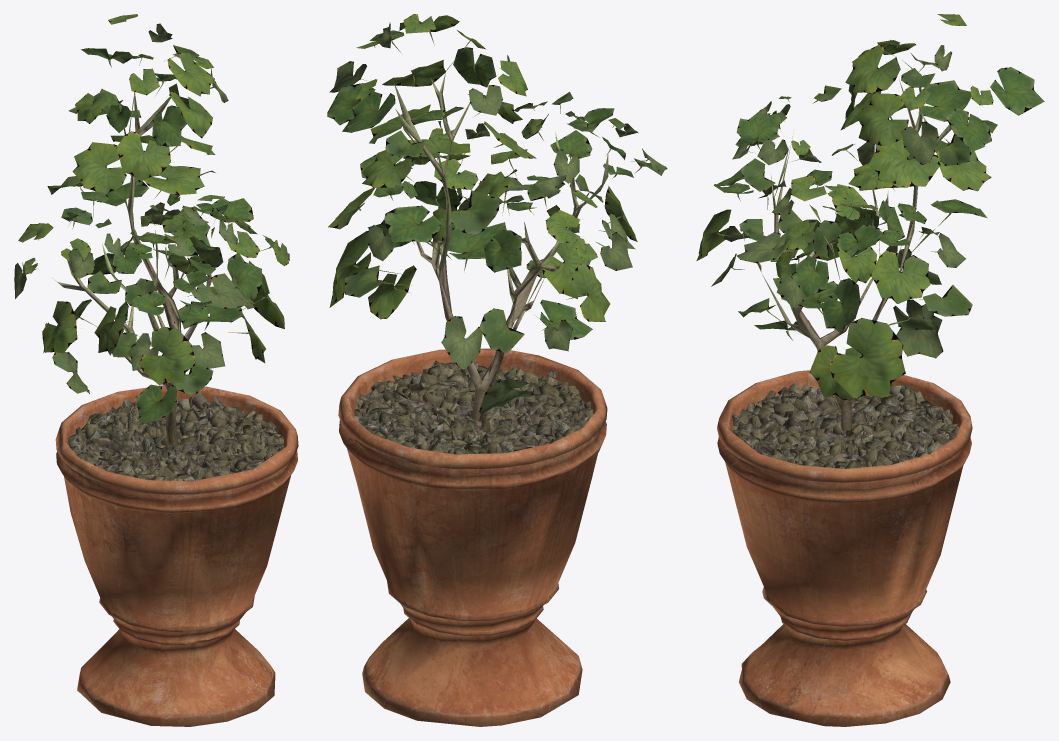
The model's file is plant-ph-01.glb.
3 renders of one model, left to right at view 1: azimuth 30°, elevation 25°; view 2: azimuth 150°, elevation 25°; view 3: azimuth 270°, elevation 25°, orthographic. The views are drawn at different scales.
Visible parts, largest first — view 1: potted_plant_01_pot, potted_plant_01_leaves, potted_plant_01_pebbles, potted_plant_01_stem; view 2: potted_plant_01_pot, potted_plant_01_leaves, potted_plant_01_pebbles, potted_plant_01_stem; view 3: potted_plant_01_pot, potted_plant_01_leaves, potted_plant_01_pebbles, potted_plant_01_stem.
Boxes of the visible parts, x1,y1,x2,y2 form: potted_plant_01_pot: (55, 385, 298, 726); potted_plant_01_leaves: (14, 14, 289, 424); potted_plant_01_pebbles: (68, 393, 283, 481); potted_plant_01_stem: (52, 91, 211, 445); potted_plant_01_pot: (338, 348, 607, 726); potted_plant_01_leaves: (327, 14, 667, 414); potted_plant_01_pebbles: (354, 360, 593, 464); potted_plant_01_stem: (393, 72, 608, 421); potted_plant_01_pot: (717, 370, 972, 726); potted_plant_01_leaves: (696, 14, 1044, 400); potted_plant_01_pebbles: (732, 383, 958, 470); potted_plant_01_stem: (757, 80, 963, 434).
Size of the model in its own units: 0.5866 by 1.33 by 0.6336.
Materials: 2 (2 with a texture image).
